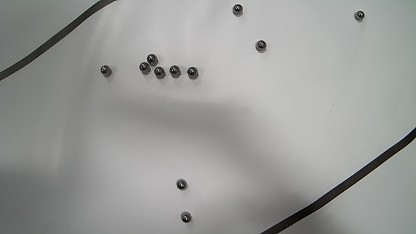ironball: (146, 53, 158, 66), (169, 65, 181, 78), (154, 66, 165, 79), (187, 66, 198, 79), (139, 62, 150, 74), (100, 65, 111, 77), (180, 212, 191, 223), (233, 4, 243, 16), (256, 40, 266, 52), (176, 179, 187, 189), (354, 11, 364, 21)
